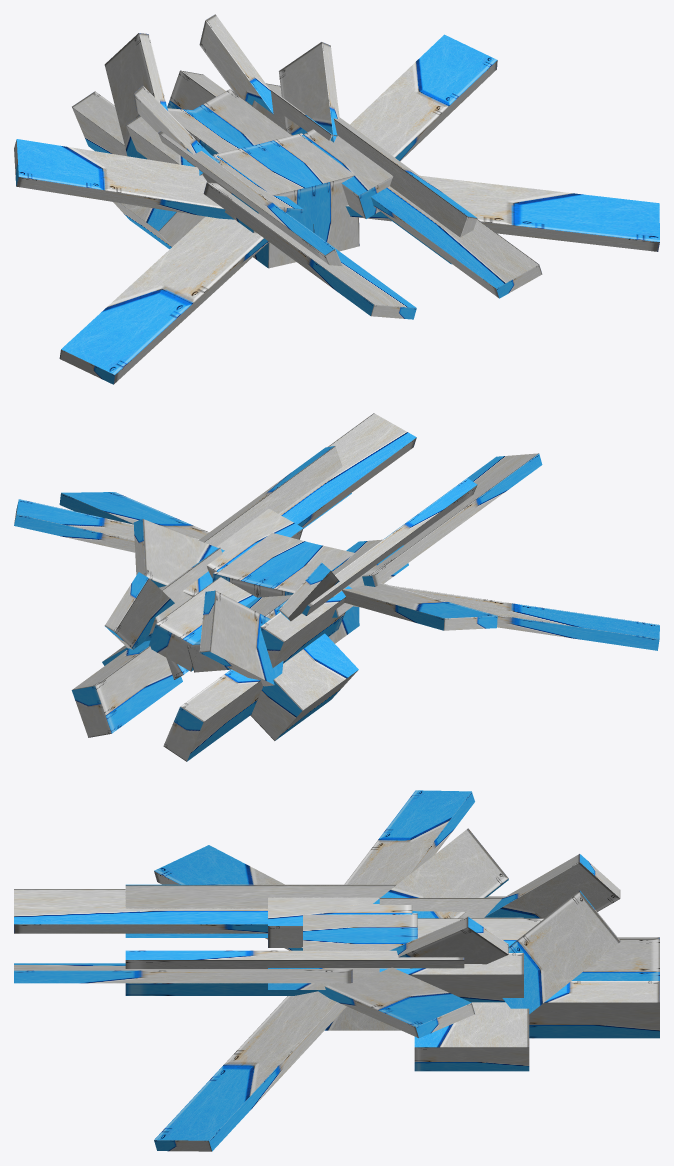
File: F_shipclassT.fbx
3 views of the same model, one above another, from view 1: azimuth 30°, elevation 25°; view 2: azimuth 150°, elevation 25°; view 3: azimuth 270°, elevation 25° (orthographic).
Visible parts, largest first — view 1: FriendlyshipT; view 2: FriendlyshipT; view 3: FriendlyshipT.
Boxes of the visible parts, x1=… form: FriendlyshipT: x1=14, y1=14, x2=659, y2=384; FriendlyshipT: x1=14, y1=413, x2=659, y2=761; FriendlyshipT: x1=14, y1=790, x2=659, y2=1151.
Size of the model in its own units: 1487 by 382 by 1372.
Materials: 1 (1 with a texture image).
